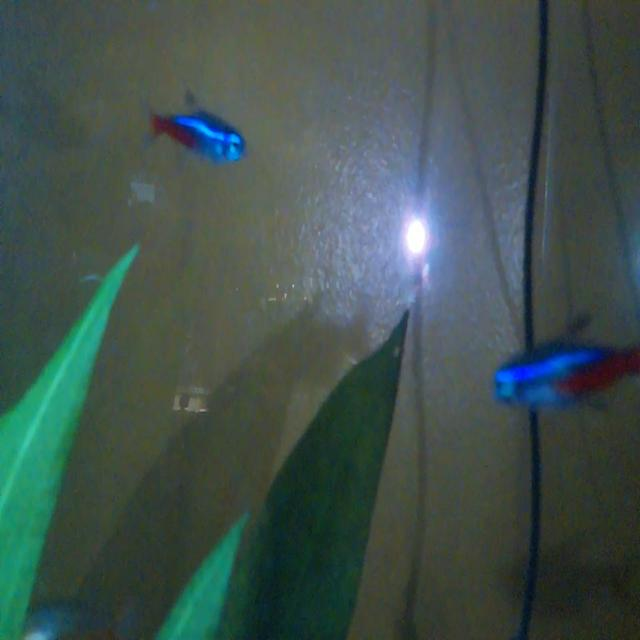fish: (479, 313, 640, 419), (136, 77, 255, 182)
